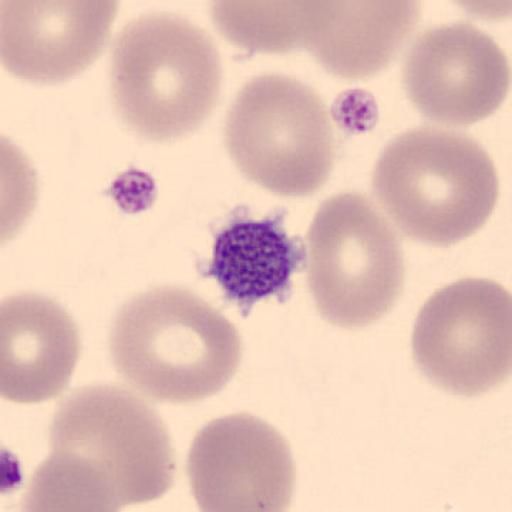Platelet: (201, 205, 308, 313), (102, 160, 164, 218), (326, 83, 384, 140)
RBC: (44, 380, 178, 510), (107, 282, 244, 406), (107, 8, 224, 149), (370, 123, 500, 249), (299, 189, 406, 333), (221, 68, 335, 201), (409, 275, 511, 398), (399, 20, 511, 128), (184, 409, 298, 512), (287, 0, 420, 82), (2, 0, 116, 86), (2, 288, 82, 406), (206, 0, 330, 55), (16, 448, 121, 512), (0, 132, 40, 247), (442, 0, 512, 23)
